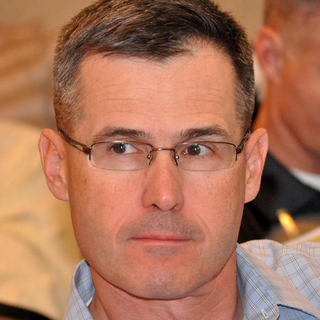eye: (178, 139, 224, 163), (101, 138, 146, 161)
